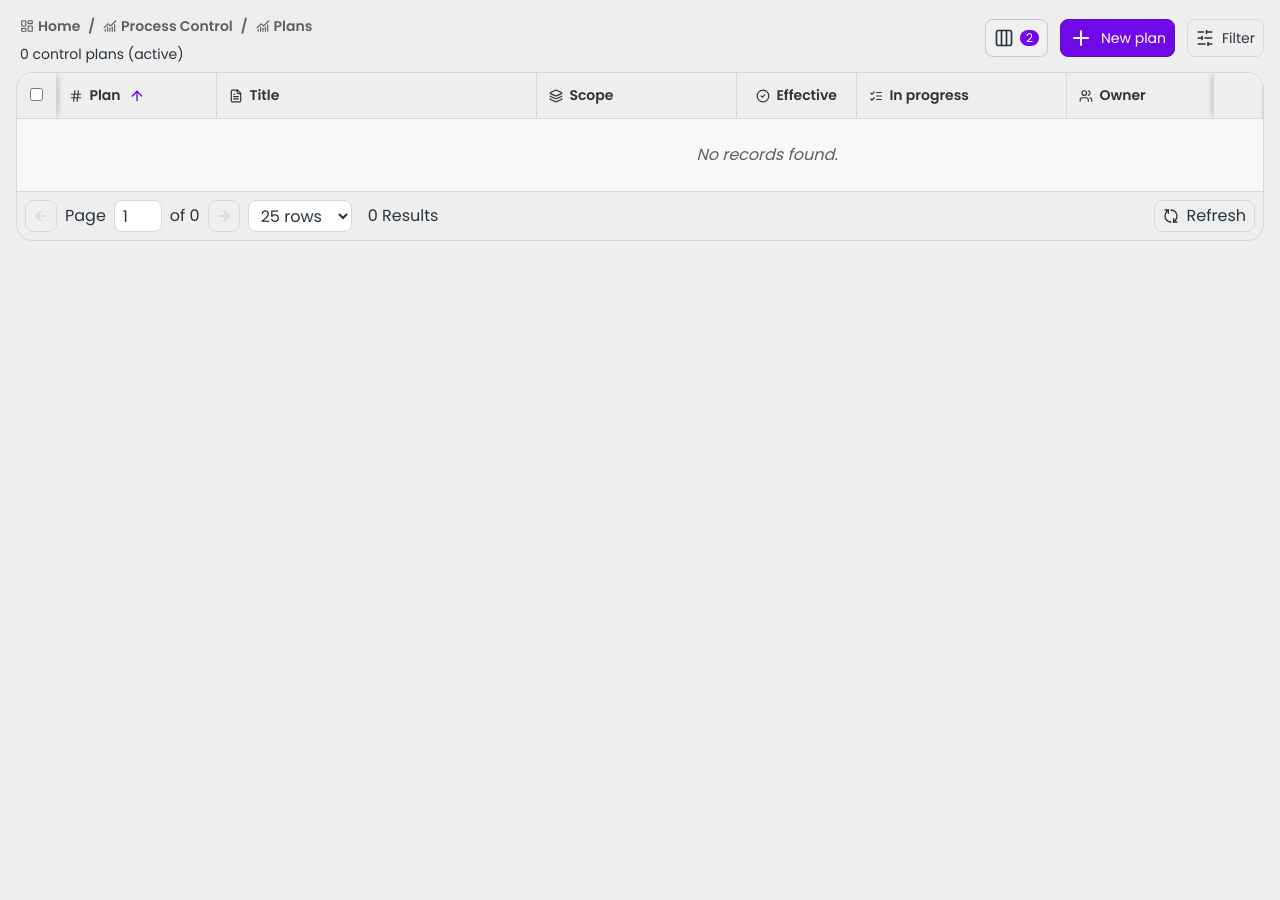
Test: Control plans register › creates a plan for a family
Click the button "New plan": (1118, 38) [1060,19,1175,57]
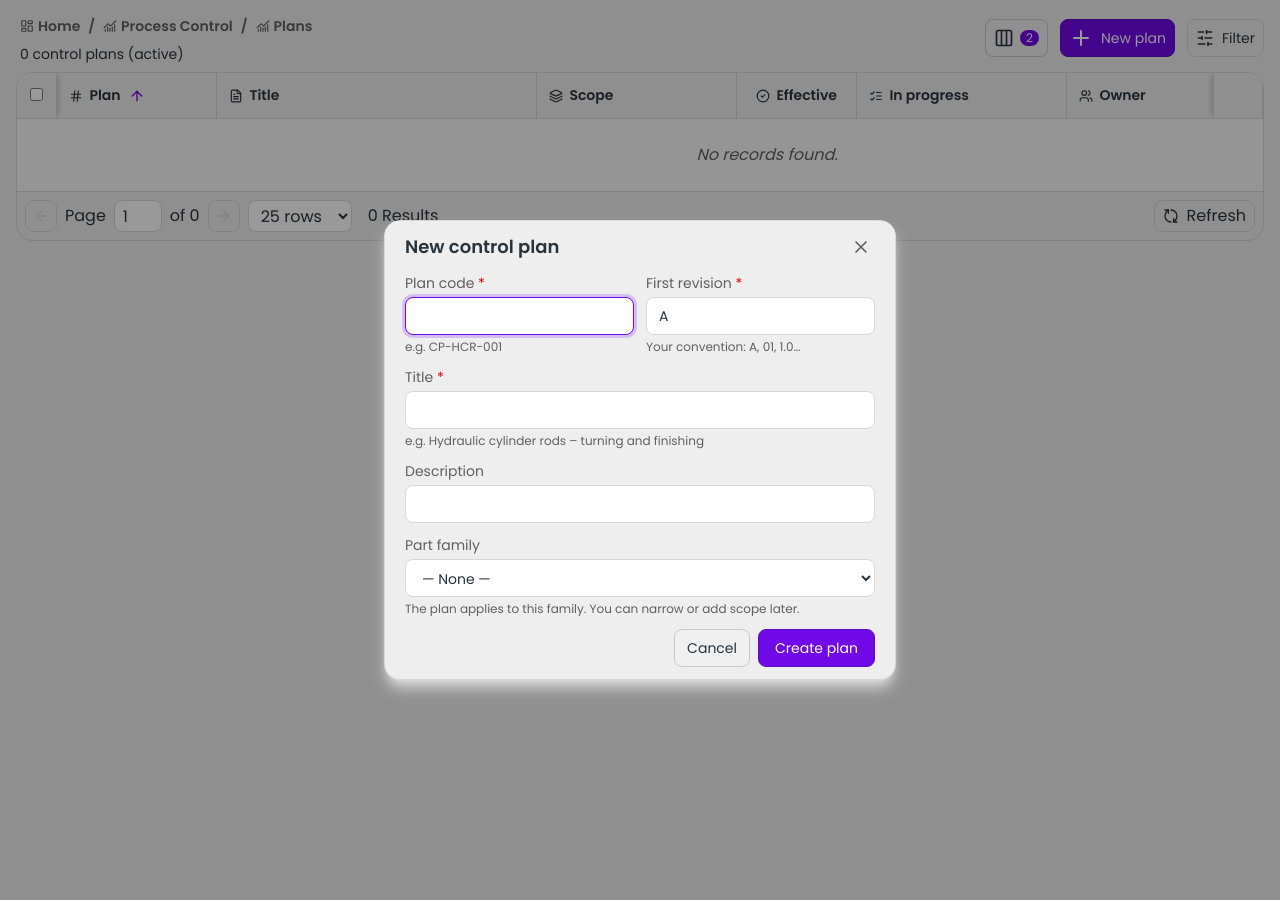
In the field labelled "Plan code": (520, 316) [405,297,634,335], type "CP-HCR-001"
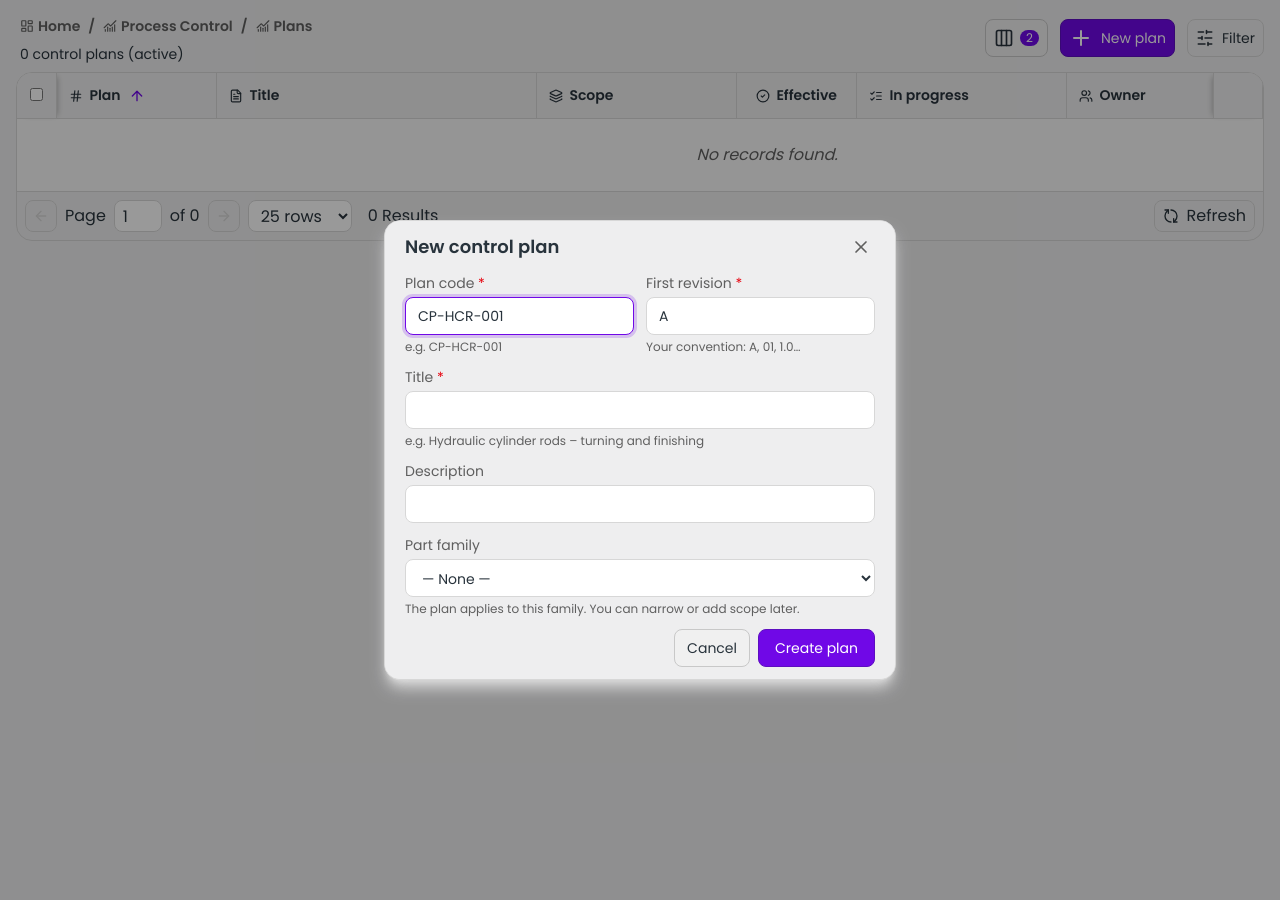
In the field labelled "Title": (640, 410) [405,391,875,429], type "Rods – turning"
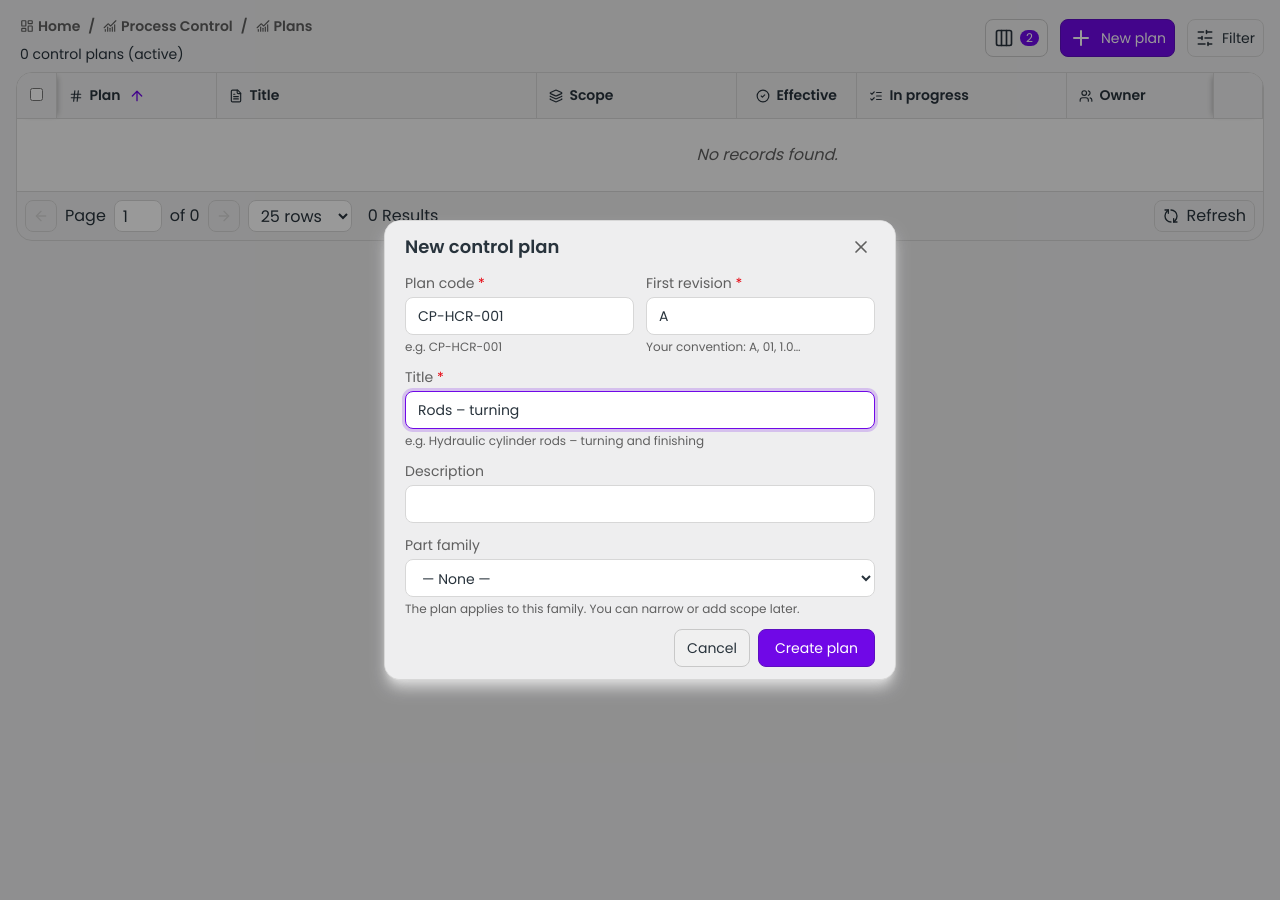
Select "HCR · Rods" in the dropdown labelled "Part family": (640, 578) [405,559,875,597]
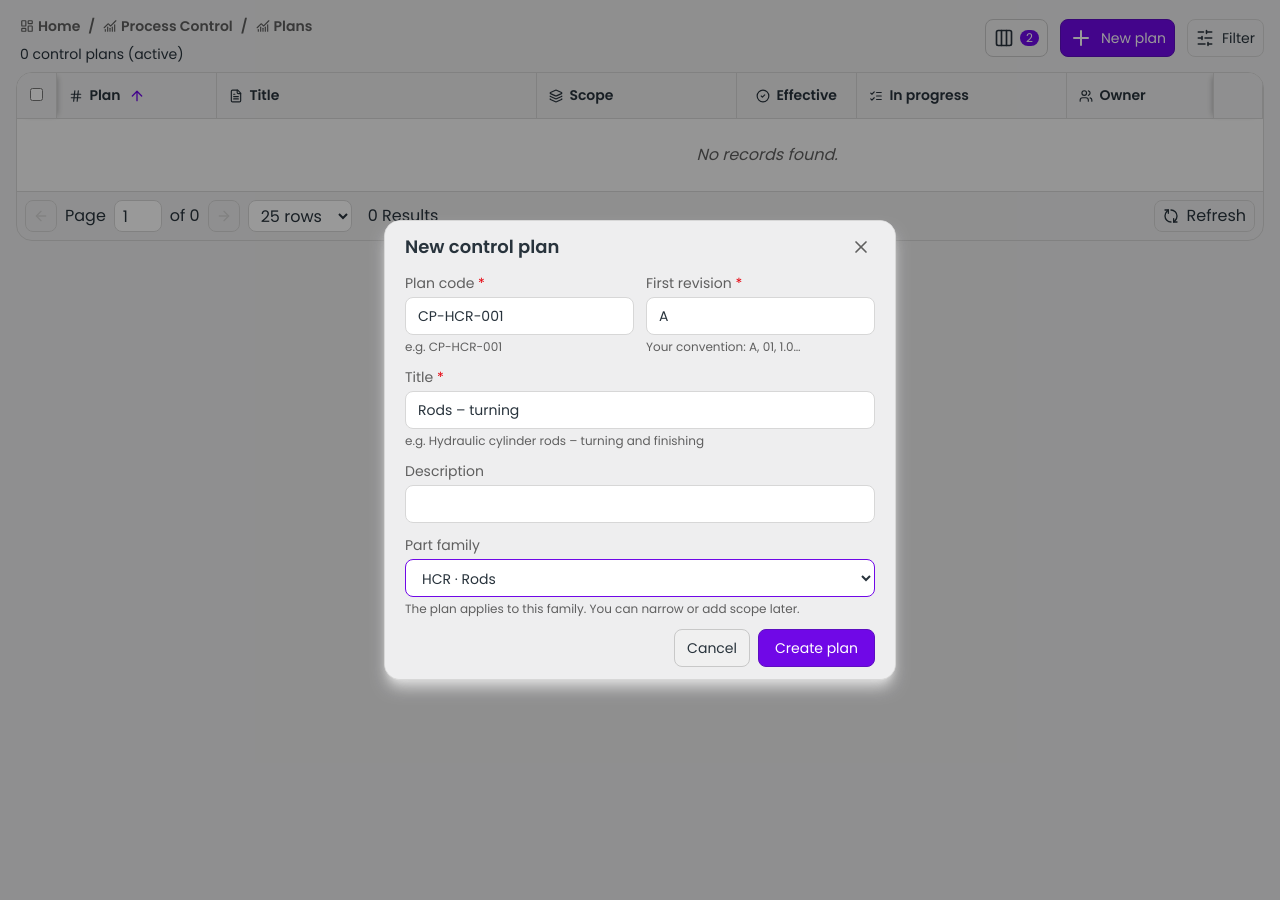
Click the button "Create plan": (816, 648) [758,629,875,667]
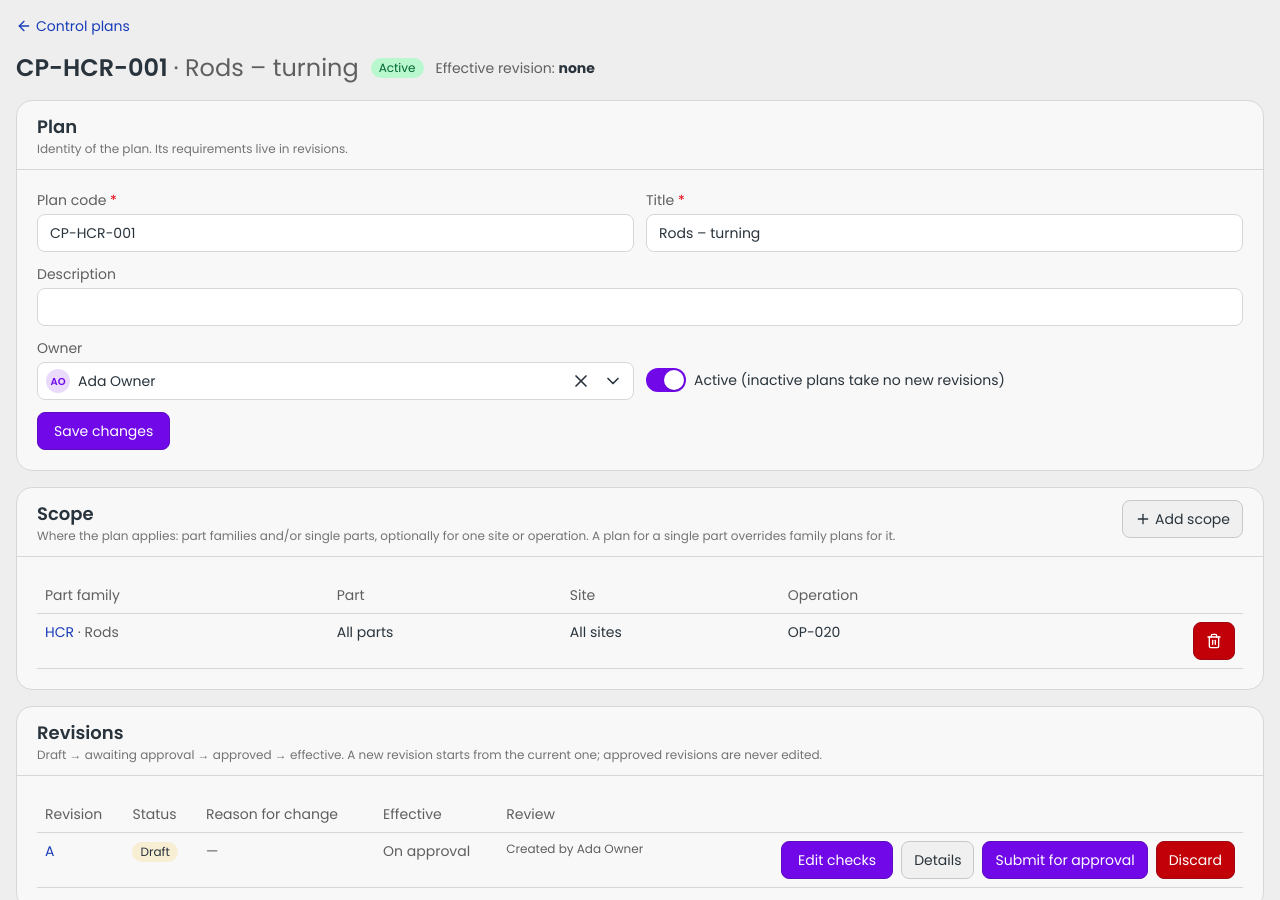
Expected: the heading "CP-HCR-001 · Rods – turning" is shown, [16,52,359,84]
